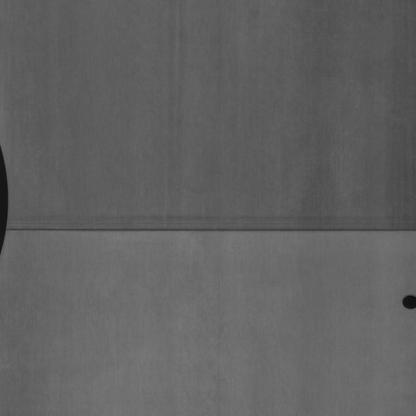crescent_gap: (0, 136, 9, 268)
punching_hole: (398, 287, 416, 312)
welding_line: (4, 222, 416, 244)
